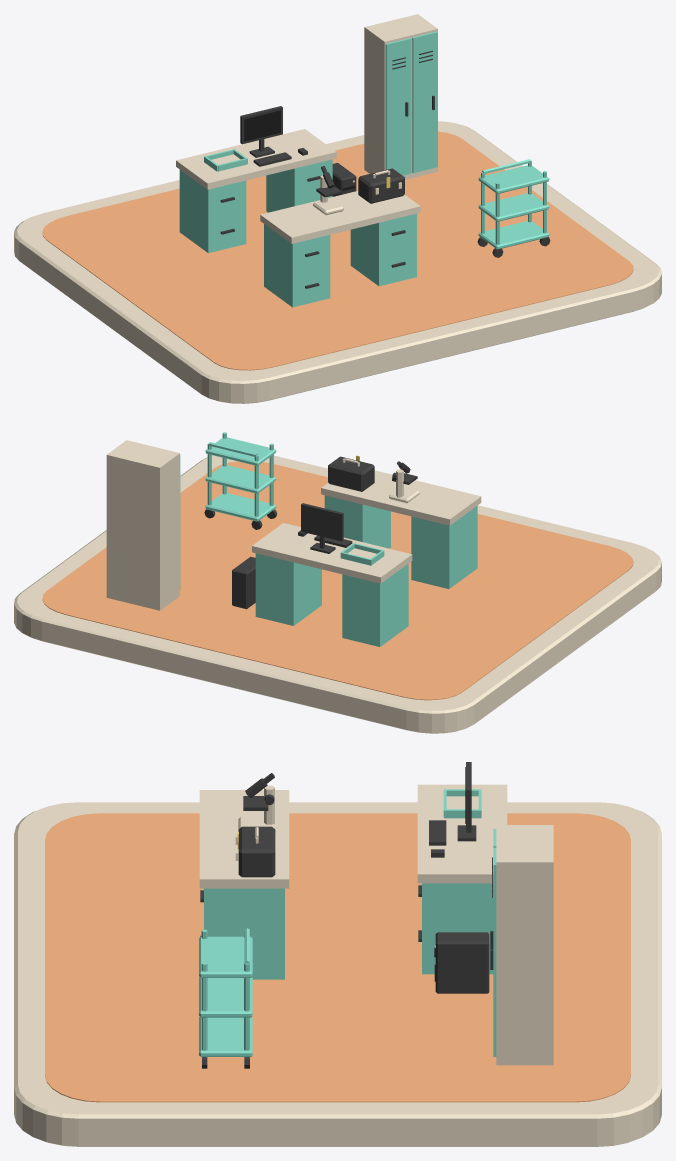
The picture shows the model from 3 angles, top to bottom: view 1: azimuth 30°, elevation 25°; view 2: azimuth 150°, elevation 25°; view 3: azimuth 270°, elevation 25°; orthographic projection. The views are drawn at different scales.
Parts seen in each view (by area): view 1: COM-02 Floor Surface, COM-01 Rounded Base Direct, Case.001, Storage module.002, Worktop, Storage module, Worktop.001, Storage module.001, Door, Door.001, Storage module.003, Frame (+5 smaller); view 2: COM-02 Floor Surface, COM-01 Rounded Base Direct, Case.001, Storage module.002, Storage module, Storage module.003, Worktop.001, Worktop, Storage module.001, Frame, Case, Tray (+3 smaller); view 3: COM-02 Floor Surface, COM-01 Rounded Base Direct, Case.001, Worktop.001, Worktop, Storage module.001, Storage module.003, Tower, Tray.002, Case, Tray.001, Tray (+2 smaller).
Part boxes in pixels (x1,y1,x2,y2): COM-02 Floor Surface: [42, 131, 633, 370]; COM-01 Rounded Base Direct: [14, 121, 661, 403]; Case.001: [364, 14, 437, 179]; Storage module.002: [179, 170, 246, 253]; Worktop: [260, 191, 420, 243]; Storage module: [264, 224, 330, 307]; Worktop.001: [176, 129, 336, 189]; Storage module.001: [350, 213, 416, 286]; Door: [385, 38, 411, 175]; Door.001: [412, 31, 437, 172]; Storage module.003: [266, 159, 332, 212]; Frame: [240, 106, 282, 157]; COM-02 Floor Surface: [42, 461, 633, 700]; COM-01 Rounded Base Direct: [14, 455, 661, 733]; Case.001: [106, 440, 179, 610]; Storage module.002: [342, 563, 408, 646]; Storage module: [411, 506, 477, 588]; Storage module.003: [255, 553, 321, 625]; Worktop.001: [252, 523, 412, 583]; Worktop: [321, 470, 481, 525]; Storage module.001: [324, 495, 390, 548]; Frame: [301, 503, 343, 553]; Case: [328, 456, 374, 491]; Tray: [205, 493, 276, 521]; COM-02 Floor Surface: [45, 813, 630, 1102]; COM-01 Rounded Base Direct: [14, 802, 661, 1146]; Case.001: [496, 825, 553, 1065]; Worktop.001: [417, 784, 507, 883]; Worktop: [199, 790, 289, 888]; Storage module.001: [204, 888, 284, 979]; Storage module.003: [422, 883, 493, 974]; Tower: [435, 932, 489, 993]; Tray.002: [199, 936, 252, 977]; Case: [238, 826, 275, 877]; Tray.001: [199, 977, 252, 1017]; Tray: [199, 1017, 252, 1056].
Bounding box in the file's own units: 6 × 2.1 × 5.2.
1 material, 1 textured.
